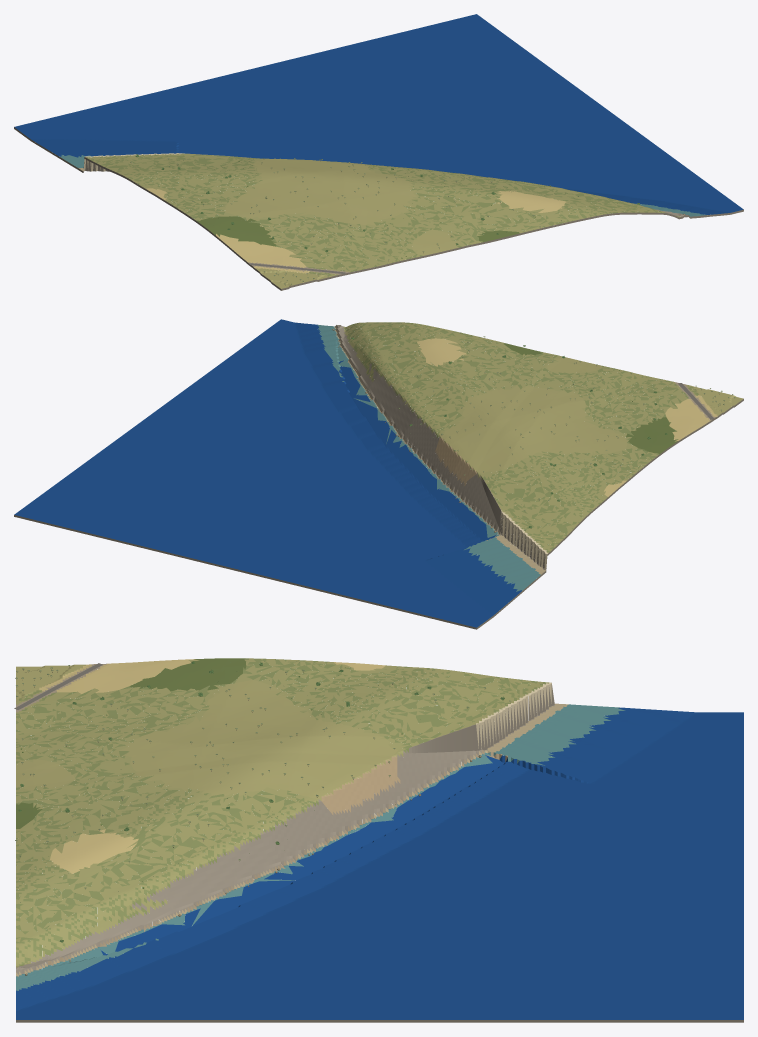
File: parca_+14_-2-yakin.glb
3 renders of one model, top to bottom at view 1: azimuth 30°, elevation 25°; view 2: azimuth 150°, elevation 25°; view 3: azimuth 270°, elevation 25°, orthographic. The views are drawn at different scales.
Visible parts, largest first — view 1: parca_+14_-2_arazi, parca_+14_-2_bitkiler; view 2: parca_+14_-2_arazi, parca_+14_-2_bitkiler; view 3: parca_+14_-2_arazi, parca_+14_-2_bitkiler.
Part boxes in pixels (x1,y1,x2,y2): parca_+14_-2_arazi: (14,14,743,290); parca_+14_-2_bitkiler: (130,154,639,285); parca_+14_-2_arazi: (14,319,743,629); parca_+14_-2_bitkiler: (351,323,735,530); parca_+14_-2_arazi: (16,658,743,1022); parca_+14_-2_bitkiler: (15,661,510,942).
Size of the model in its own units: 1003 by 92.76 by 1003.
